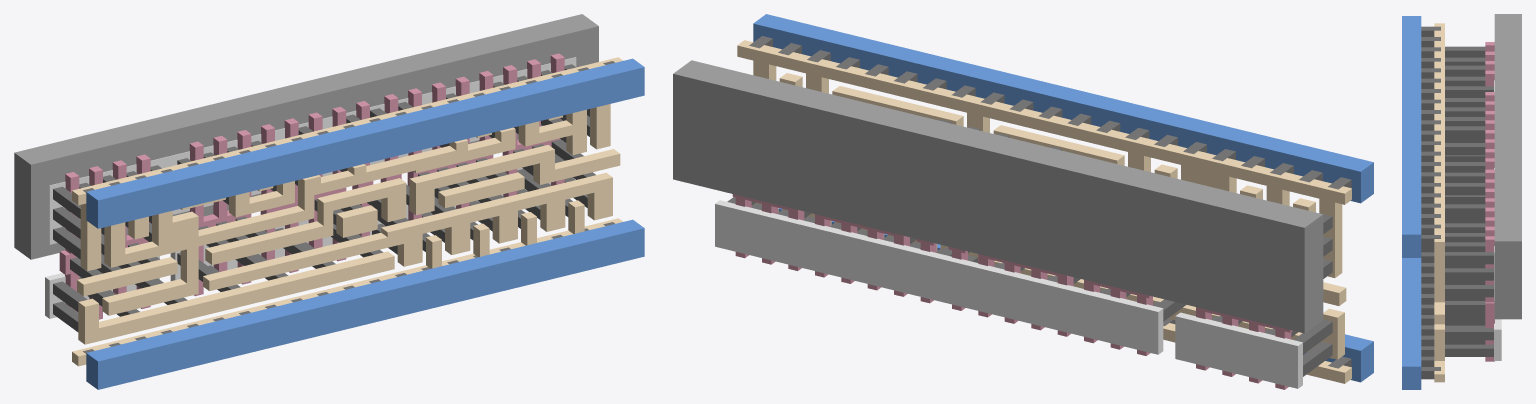
Rendered from sky130_fd_sc_hd__o221ai_4.gds.gltf.
3 renders of one model, left to right at view 1: azimuth 30°, elevation 25°; view 2: azimuth 150°, elevation 25°; view 3: azimuth 270°, elevation 25°, orthographic. The views are drawn at different scales.
Visible parts, largest first — view 1: sky130_fd_sc_hd__o221ai_4_li1, sky130_fd_sc_hd__o221ai_4_met1, sky130_fd_sc_hd__o221ai_4_nwell, sky130_fd_sc_hd__o221ai_4_licon, sky130_fd_sc_hd__o221ai_4_poly, sky130_fd_sc_hd__o221ai_4_diff, sky130_fd_sc_hd__o221ai_4_mcon; view 2: sky130_fd_sc_hd__o221ai_4_nwell, sky130_fd_sc_hd__o221ai_4_diff, sky130_fd_sc_hd__o221ai_4_li1, sky130_fd_sc_hd__o221ai_4_met1, sky130_fd_sc_hd__o221ai_4_poly, sky130_fd_sc_hd__o221ai_4_mcon, sky130_fd_sc_hd__o221ai_4_licon; view 3: sky130_fd_sc_hd__o221ai_4_licon, sky130_fd_sc_hd__o221ai_4_nwell, sky130_fd_sc_hd__o221ai_4_met1, sky130_fd_sc_hd__o221ai_4_mcon, sky130_fd_sc_hd__o221ai_4_li1, sky130_fd_sc_hd__o221ai_4_poly, sky130_fd_sc_hd__o221ai_4_diff.
Boxes of the visible parts, <box> form: sky130_fd_sc_hd__o221ai_4_li1: <box>72,57,622,366</box>; sky130_fd_sc_hd__o221ai_4_met1: <box>86,58,644,389</box>; sky130_fd_sc_hd__o221ai_4_nwell: <box>14,14,598,259</box>; sky130_fd_sc_hd__o221ai_4_licon: <box>53,64,595,331</box>; sky130_fd_sc_hd__o221ai_4_poly: <box>59,53,564,319</box>; sky130_fd_sc_hd__o221ai_4_diff: <box>45,57,576,318</box>; sky130_fd_sc_hd__o221ai_4_mcon: <box>83,61,614,353</box>; sky130_fd_sc_hd__o221ai_4_nwell: <box>673,60,1323,333</box>; sky130_fd_sc_hd__o221ai_4_diff: <box>715,200,1302,388</box>; sky130_fd_sc_hd__o221ai_4_li1: <box>737,40,1351,383</box>; sky130_fd_sc_hd__o221ai_4_met1: <box>753,14,1373,382</box>; sky130_fd_sc_hd__o221ai_4_poly: <box>732,194,1292,389</box>; sky130_fd_sc_hd__o221ai_4_mcon: <box>749,36,1351,368</box>; sky130_fd_sc_hd__o221ai_4_licon: <box>727,119,1332,376</box>; sky130_fd_sc_hd__o221ai_4_licon: <box>1445,46,1493,356</box>; sky130_fd_sc_hd__o221ai_4_nwell: <box>1494,14,1521,319</box>; sky130_fd_sc_hd__o221ai_4_met1: <box>1402,16,1421,389</box>; sky130_fd_sc_hd__o221ai_4_mcon: <box>1421,26,1440,379</box>; sky130_fd_sc_hd__o221ai_4_li1: <box>1434,23,1444,382</box>; sky130_fd_sc_hd__o221ai_4_poly: <box>1485,42,1494,361</box>; sky130_fd_sc_hd__o221ai_4_diff: <box>1494,80,1501,360</box>.
Bounding box in the file's own units: 10.04 × 3.2 × 2.24.
